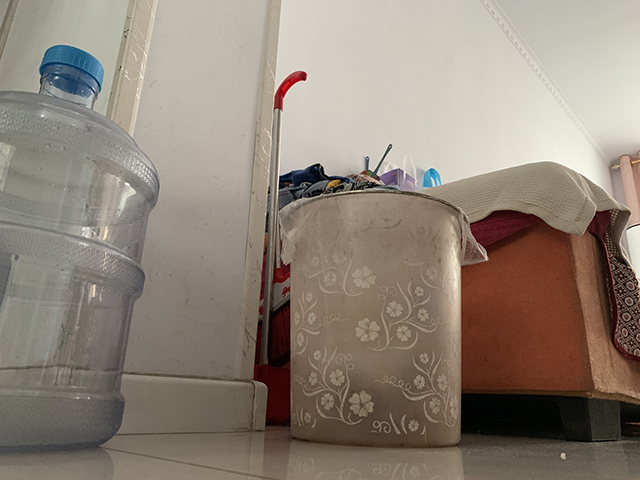trashcan: (275, 187, 471, 449)
